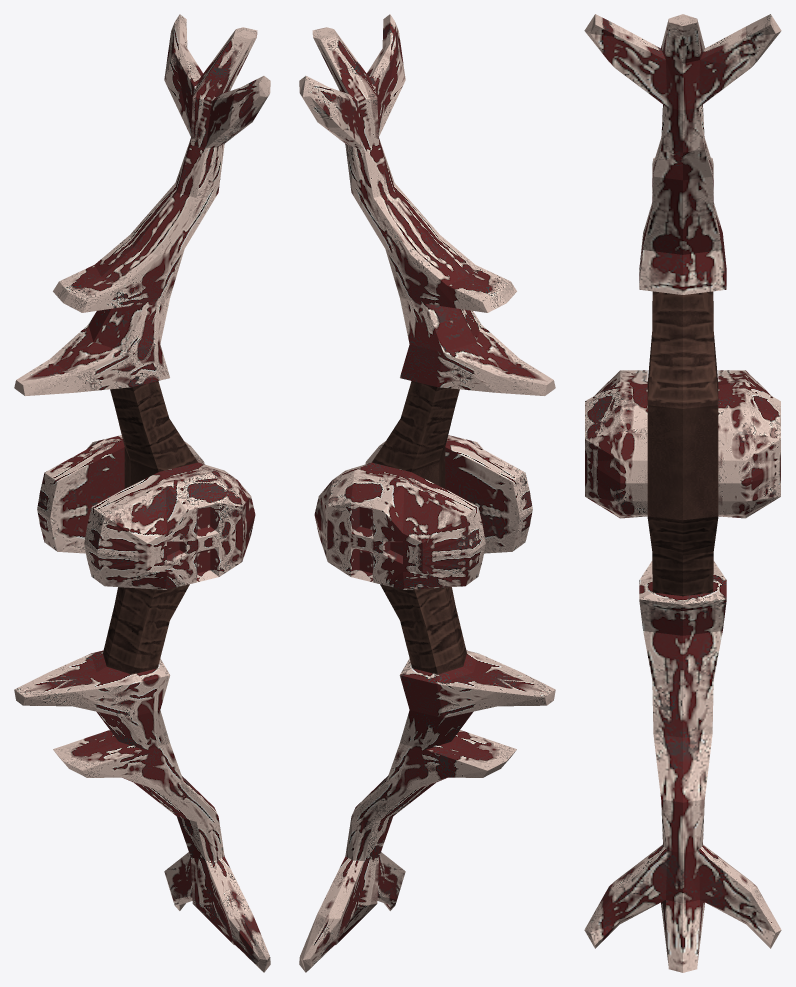
File: Skull Bow.fbx
The picture shows the model from 3 angles, left to right: view 1: azimuth 30°, elevation 25°; view 2: azimuth 150°, elevation 25°; view 3: azimuth 270°, elevation 25°; orthographic projection. The views are drawn at different scales.
Visible parts, largest first — view 1: Skull_Bow; view 2: Skull_Bow; view 3: Skull_Bow.
Boxes of the visible parts, x1,y1,x2,y2 form: Skull_Bow: (14, 14, 270, 972); Skull_Bow: (299, 14, 555, 972); Skull_Bow: (584, 14, 781, 972).
Bounding box in the file's own units: 115 × 419 × 79.13.
